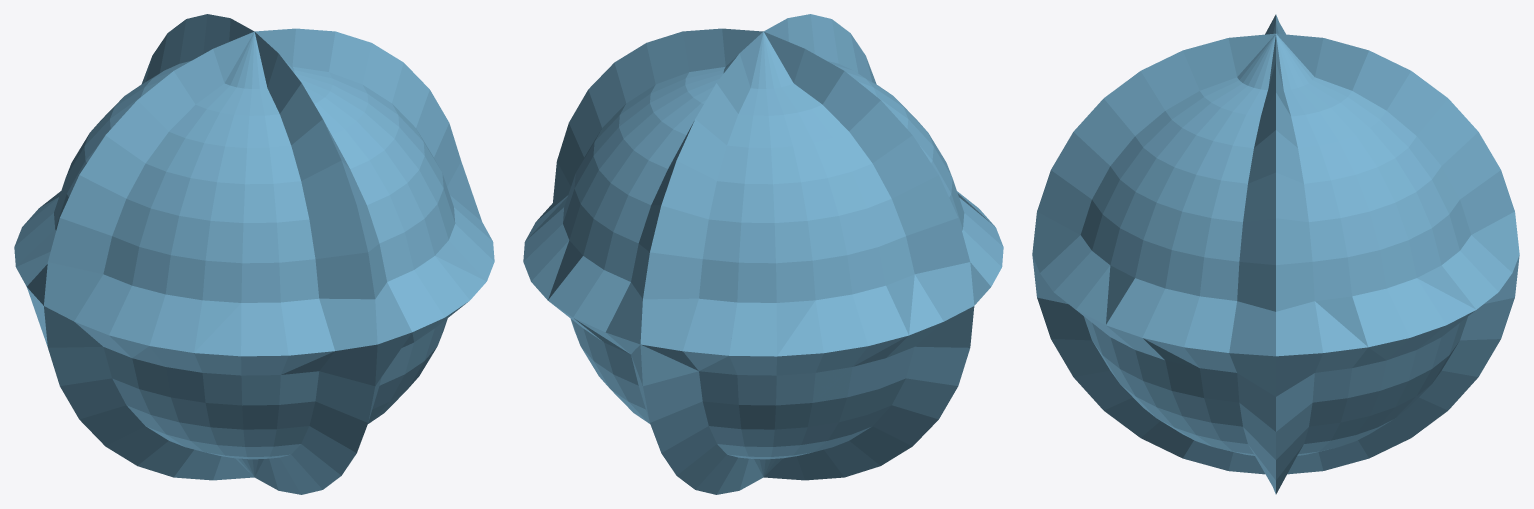
The model's file is enemy_core.fbx.
3 renders of one model, left to right at view 1: azimuth 30°, elevation 25°; view 2: azimuth 150°, elevation 25°; view 3: azimuth 270°, elevation 25°, orthographic.
Parts seen in each view (by area): view 1: Sphere; view 2: Sphere; view 3: Sphere.
Part boxes in pixels (x1,y1,x2,y2): Sphere: [14, 14, 494, 494]; Sphere: [523, 14, 1003, 494]; Sphere: [1032, 14, 1519, 494].
Bounding box in the file's own units: 38.95 × 39.38 × 39.38.
